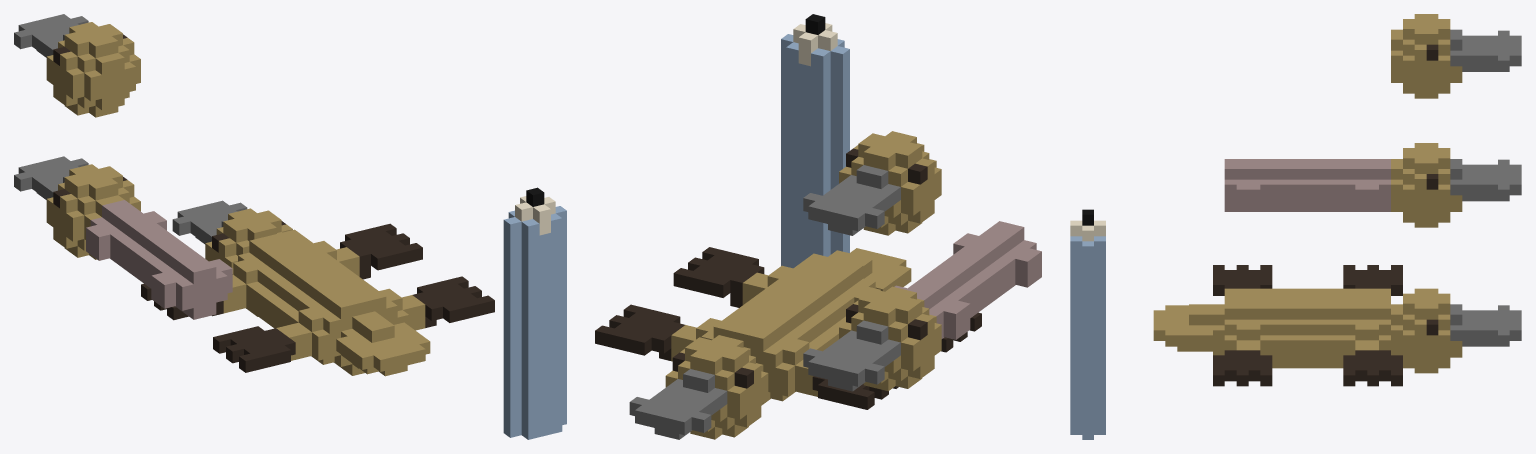
The model's file is Pladapus.obj.
The picture shows the model from 3 angles, left to right: view 1: azimuth 30°, elevation 25°; view 2: azimuth 150°, elevation 25°; view 3: azimuth 270°, elevation 25°; orthographic projection. The views are drawn at different scales.
Size of the model in its own units: 2.8 by 2.7 by 3.8.
1 material, 1 textured.
